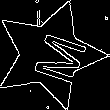M_W: (16, 25, 83, 85)
